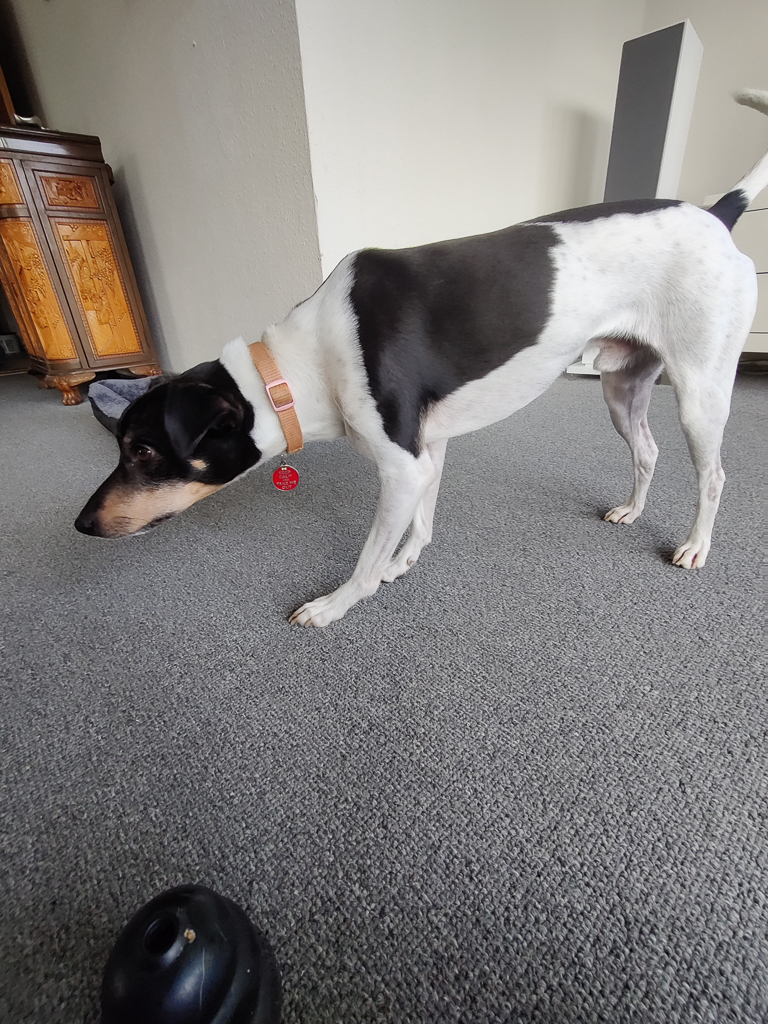Dog: (56, 74, 768, 667)
